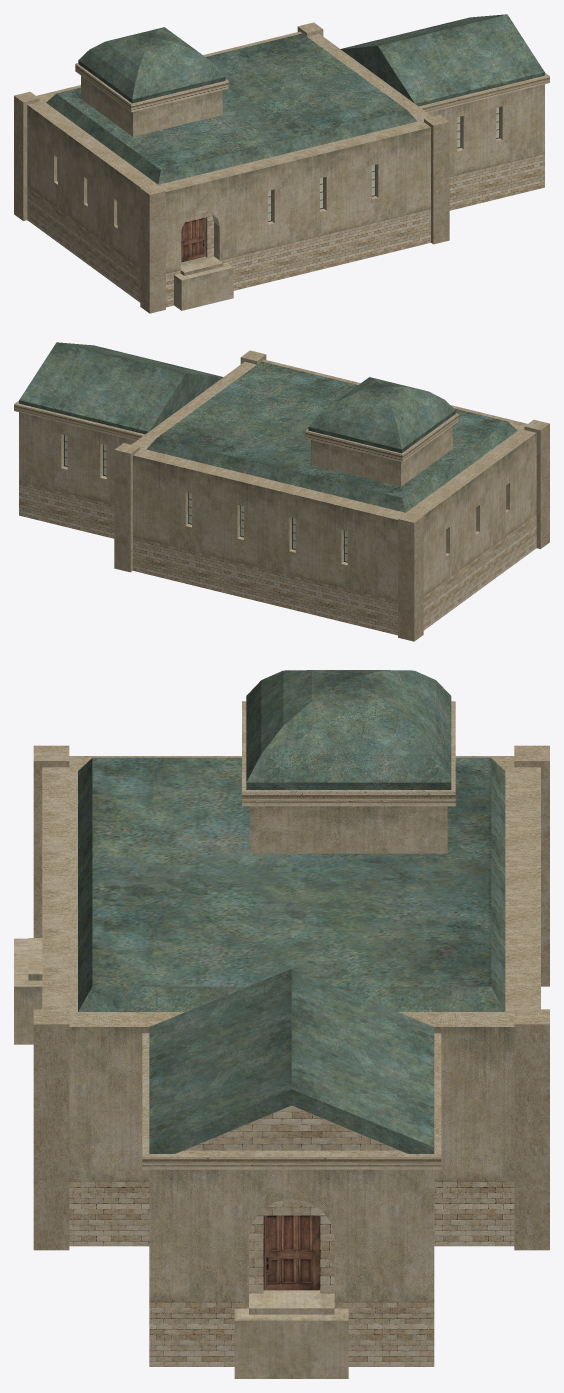
File: thm_nboo_farmhouse_s01_l0.fbx
3 renders of one model, top to bottom at view 1: azimuth 30°, elevation 25°; view 2: azimuth 150°, elevation 25°; view 3: azimuth 270°, elevation 25°, orthographic. The views are drawn at different scales.
Visible parts, largest first — view 1: mesh_node; view 2: mesh_node; view 3: mesh_node.
Boxes of the visible parts, left/top/right/bottom form: mesh_node: left=14, top=14, right=549, bottom=313; mesh_node: left=14, top=342, right=549, bottom=641; mesh_node: left=14, top=670, right=549, bottom=1378.
Bounding box in the file's own units: 33.81 × 14.43 × 18.81.
